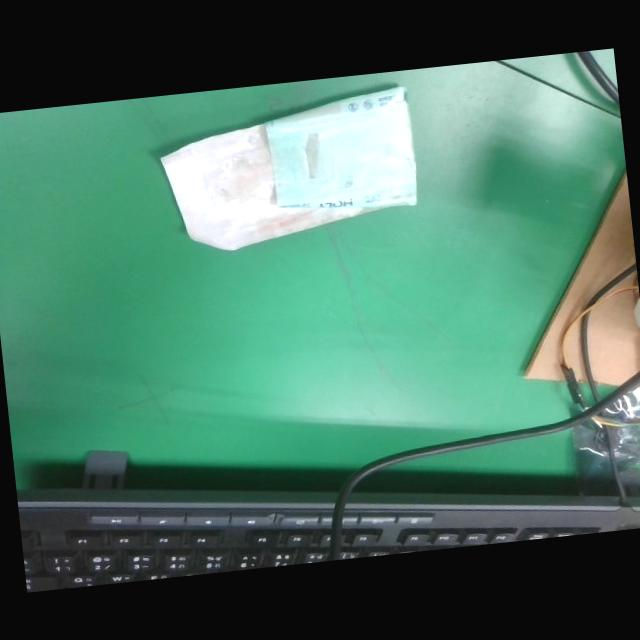triple_syringe: (154, 85, 422, 256)
